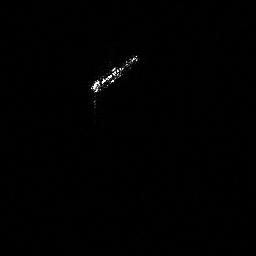ship: (90, 55, 139, 107)
